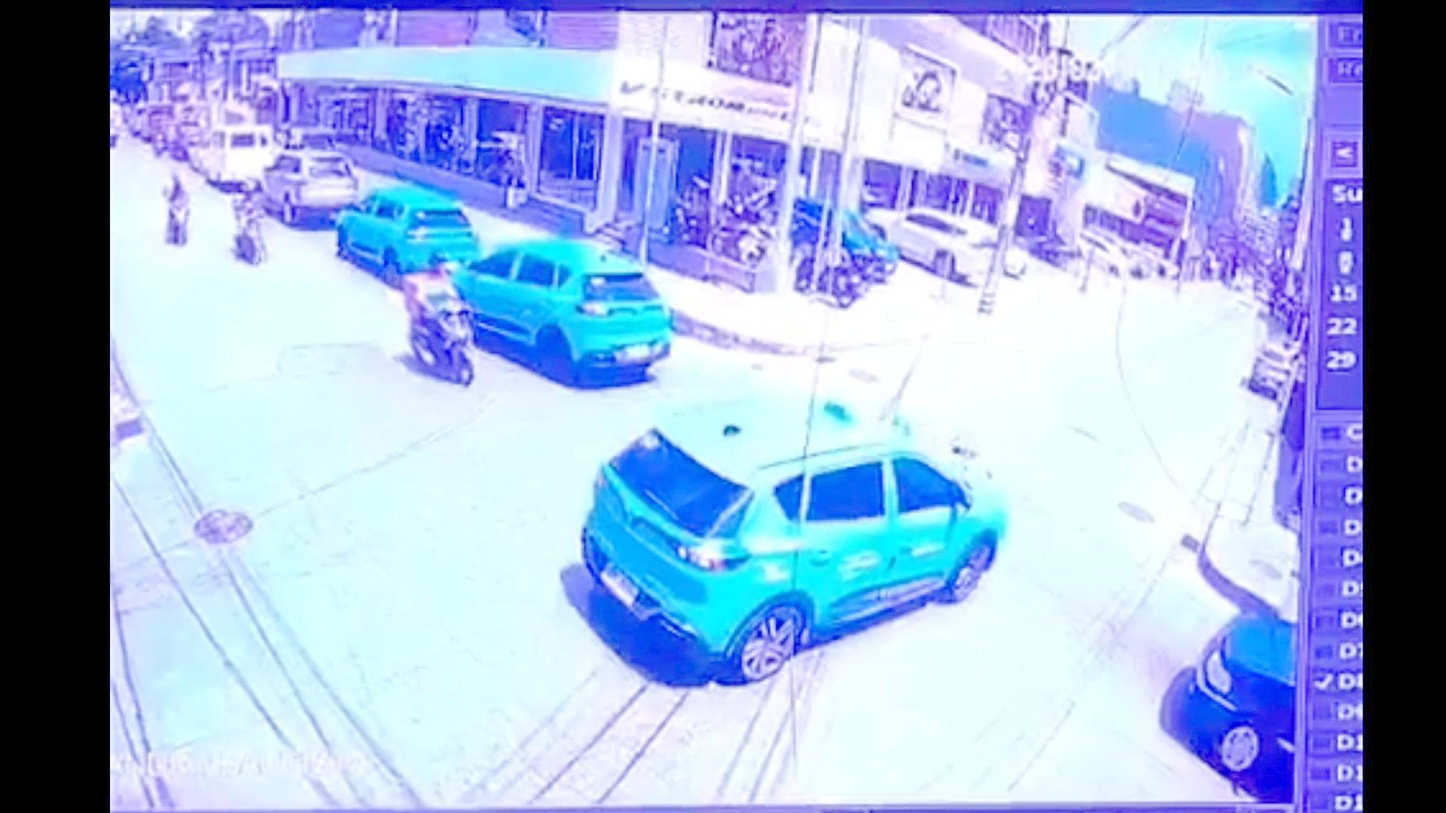Car: (583, 397, 1006, 685), (449, 234, 675, 387), (1163, 604, 1300, 803), (337, 186, 482, 282), (873, 209, 1006, 276), (783, 194, 898, 271), (264, 146, 361, 224), (186, 124, 274, 192), (1070, 226, 1156, 277), (1244, 333, 1304, 401), (136, 103, 178, 151)
Minor Accident: (583, 397, 1007, 687)
Motor: (862, 399, 1004, 494), (405, 262, 483, 383), (792, 242, 864, 300), (232, 206, 270, 266), (1029, 233, 1074, 271), (164, 193, 190, 246)
